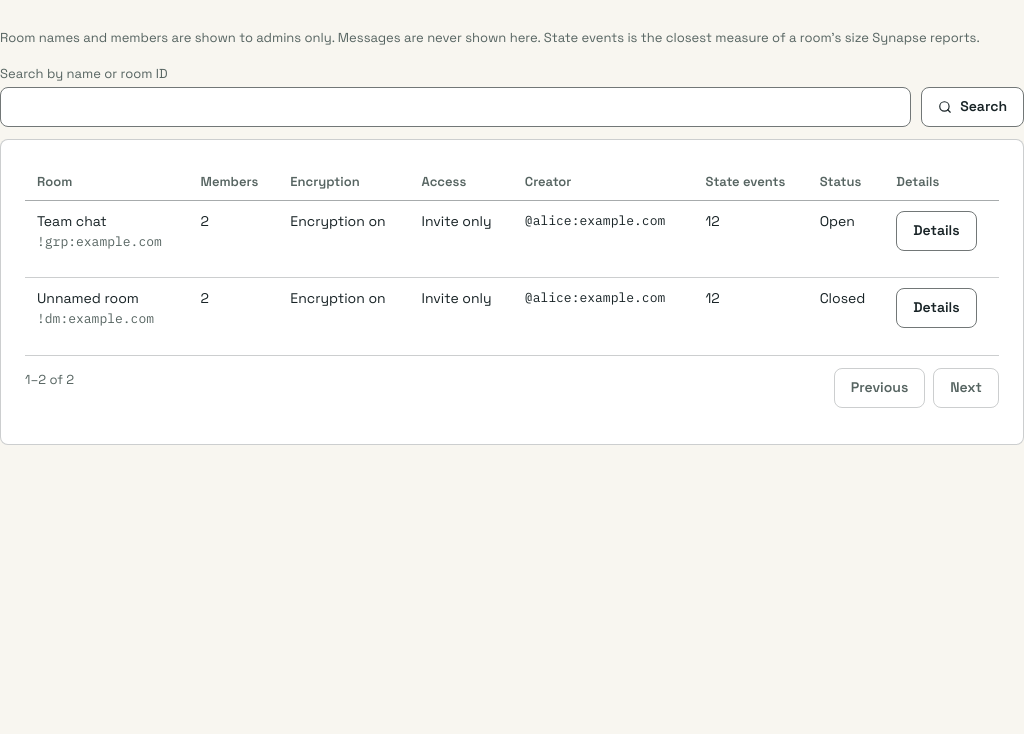
Rooms › deletes only after the exact room name is typed, and sends it for the server to check
Click the button with aria-label "Details for Team chat". click: {"x": 936, "y": 230}
box: left=896, top=210, right=977, bottom=250
(page scrolled)
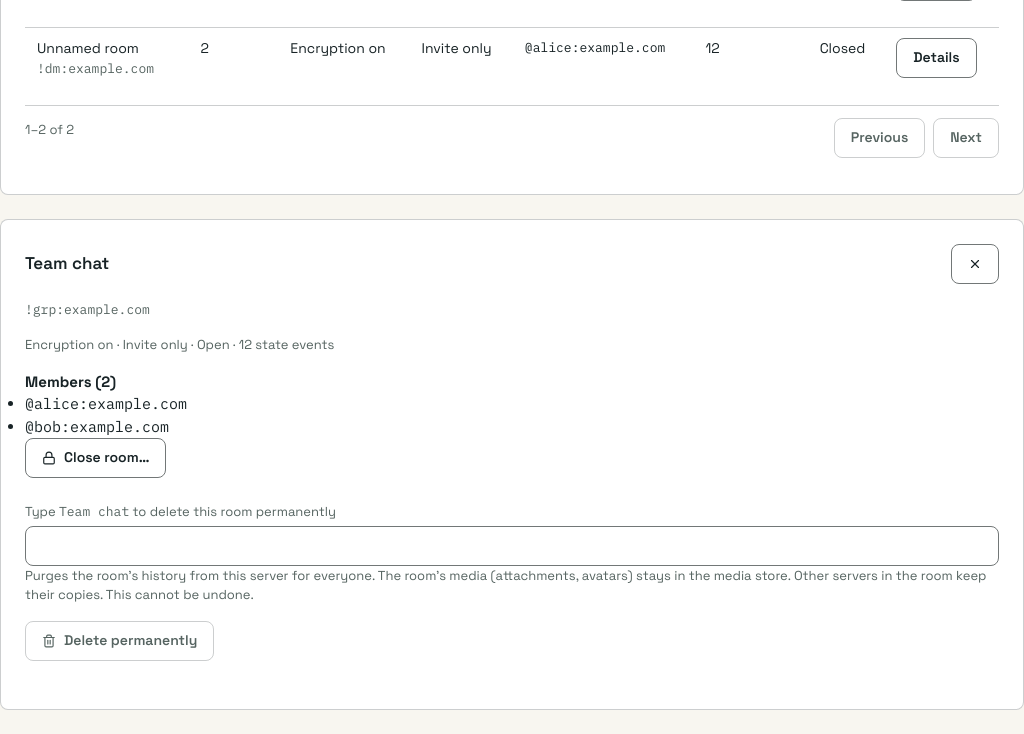
Expected: the list named "Members" is shown, left=25, top=394, right=187, bottom=436
Expected: the text "media (attachments, avatars) stays in the media store" is shown, left=25, top=566, right=986, bottom=603
Expected: the button "Delete permanently" is disabled, left=25, top=620, right=214, bottom=660
Type "team chat" into the field labelled "Type Team chat to delete this room permanently". click: {"x": 512, "y": 546}
box: left=25, top=526, right=999, bottom=566
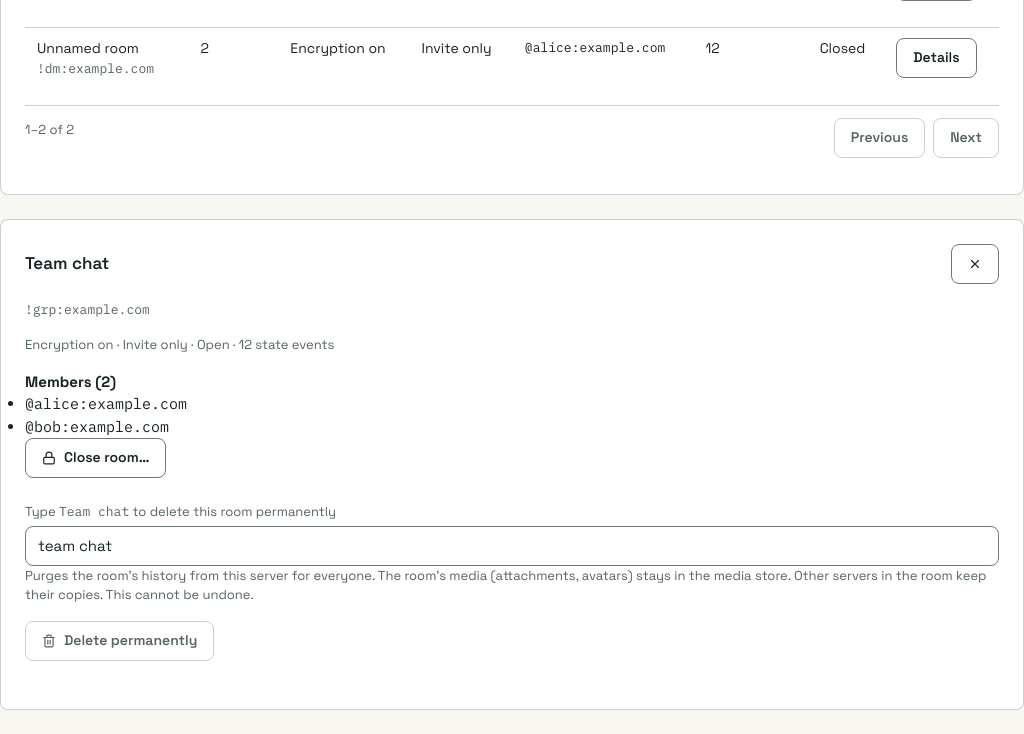
Expected: the button "Delete permanently" is disabled, left=25, top=620, right=214, bottom=660
Replace the text in the field labelled "Type Team chat to delete this room permanently" with "Team chat". click: {"x": 512, "y": 546}
box: left=25, top=526, right=999, bottom=566
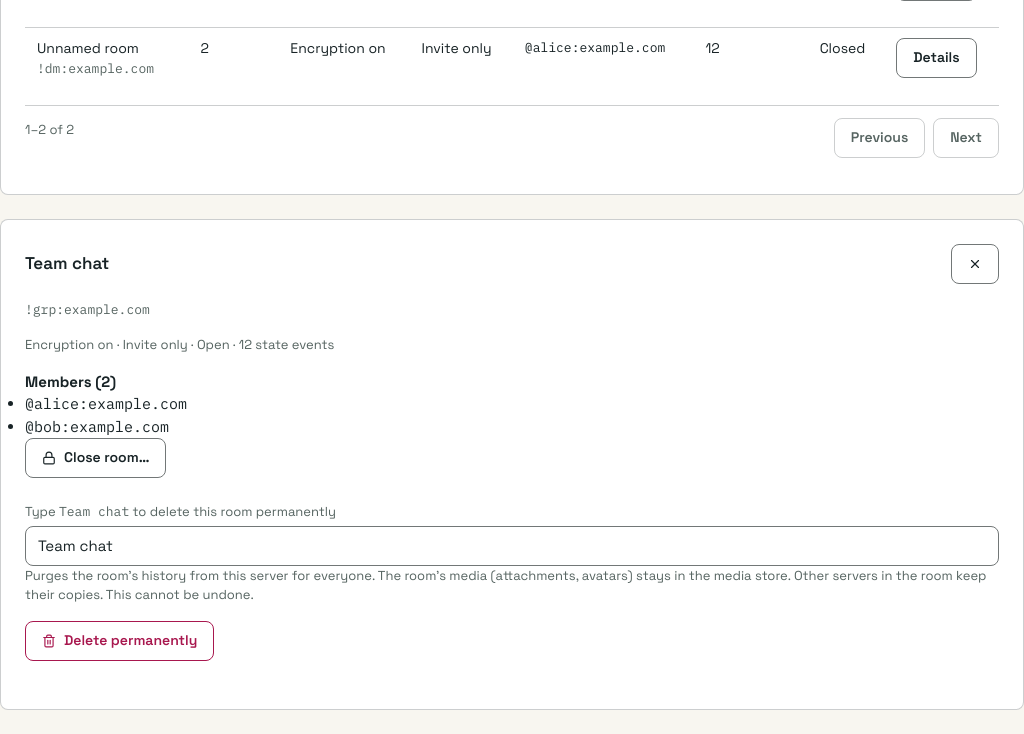
Expected: the button "Delete permanently" is enabled
Click the button "Delete permanently". click: {"x": 120, "y": 640}
box: left=25, top=620, right=214, bottom=660
(page scrolled)
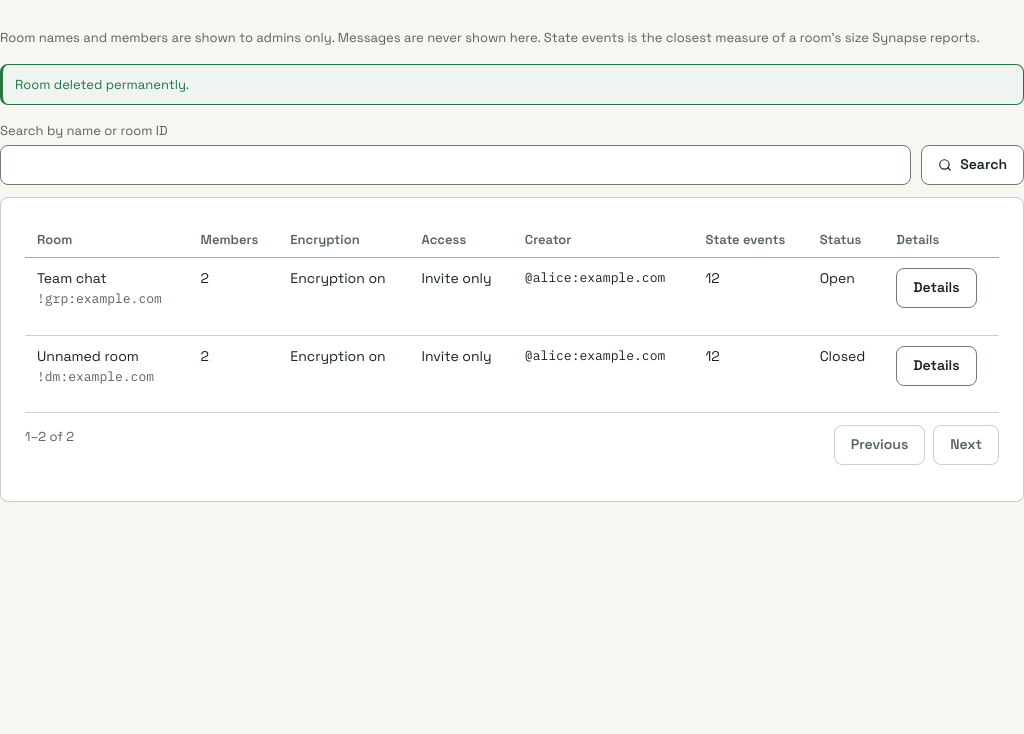
Expected: the text "Room deleted permanently." is shown, left=15, top=74, right=189, bottom=94
